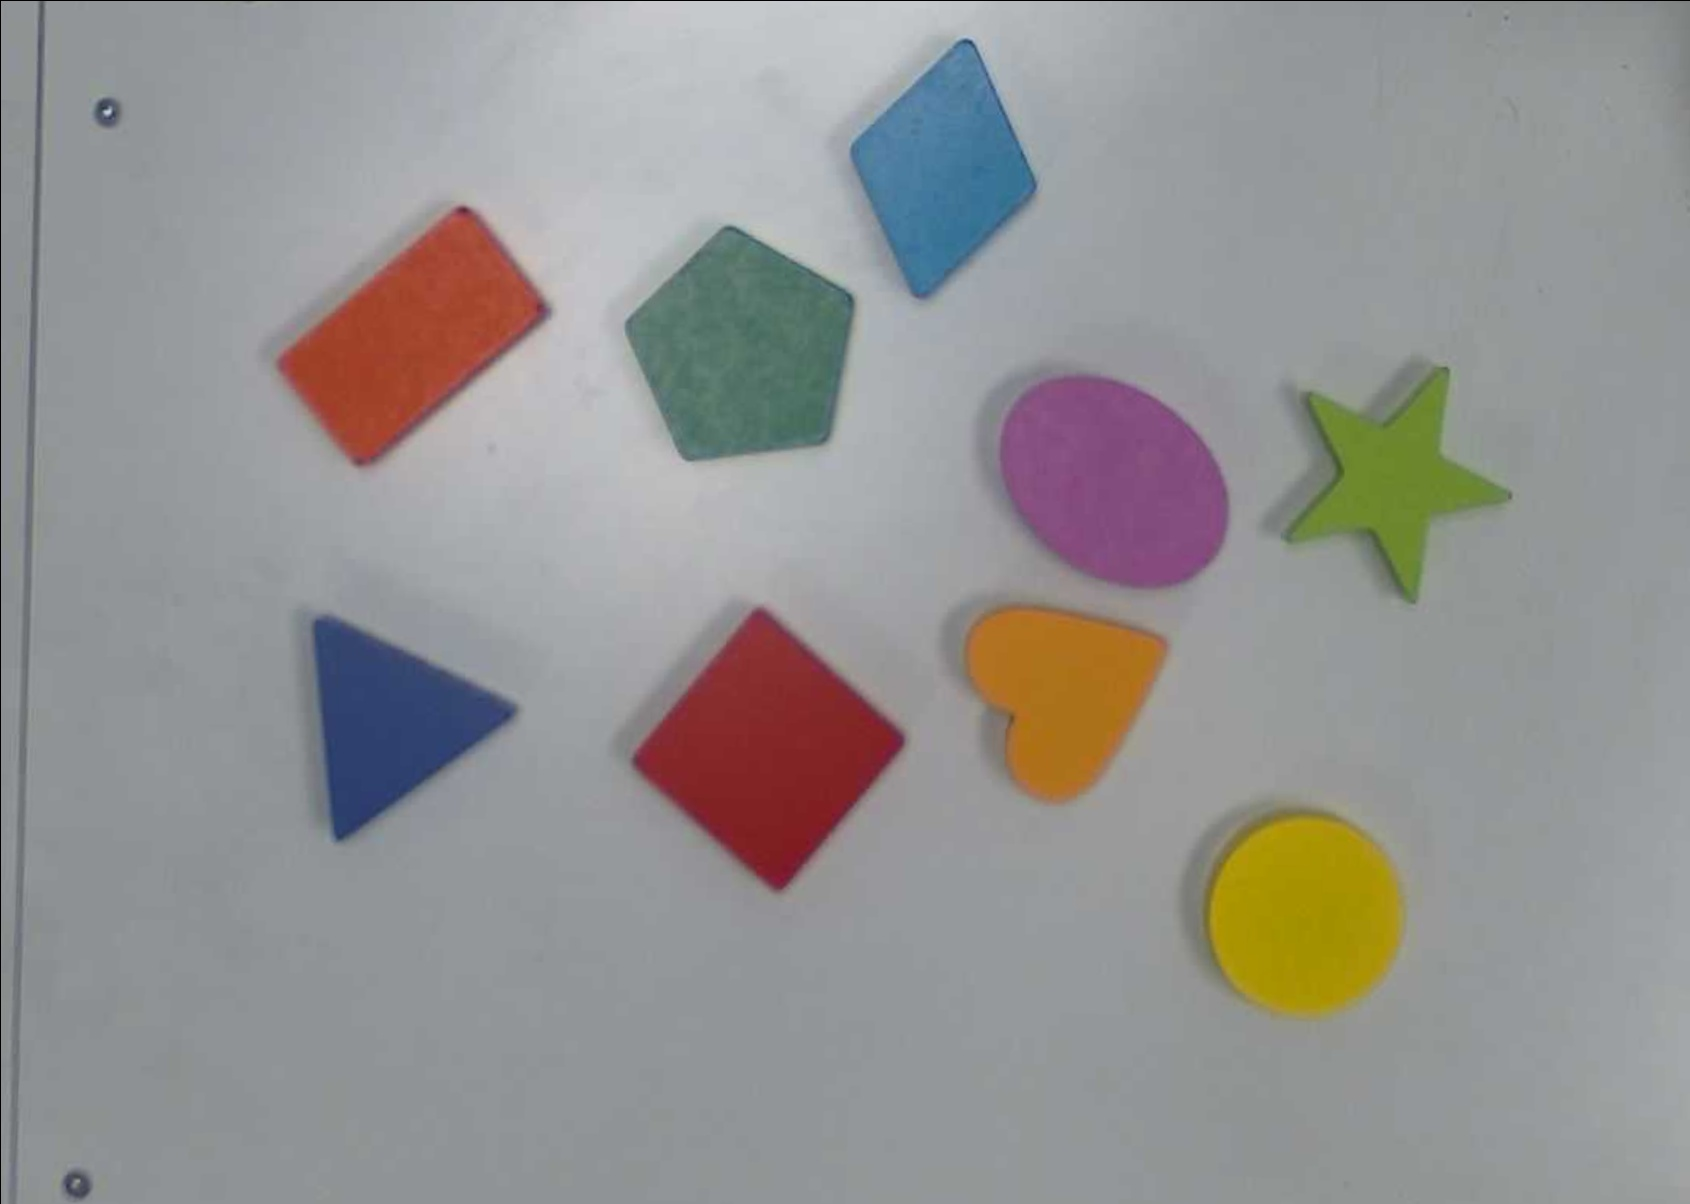Circle: (1209, 813, 1409, 1019)
Ellipse: (1001, 373, 1231, 590)
Heart: (963, 606, 1167, 803)
Parallelogram: (848, 38, 1038, 298)
Pentagon: (623, 223, 855, 464)
Rectangle: (275, 205, 551, 468)
Square: (631, 602, 908, 891)
Star: (1281, 364, 1514, 603)
Triangle: (313, 615, 517, 846)
